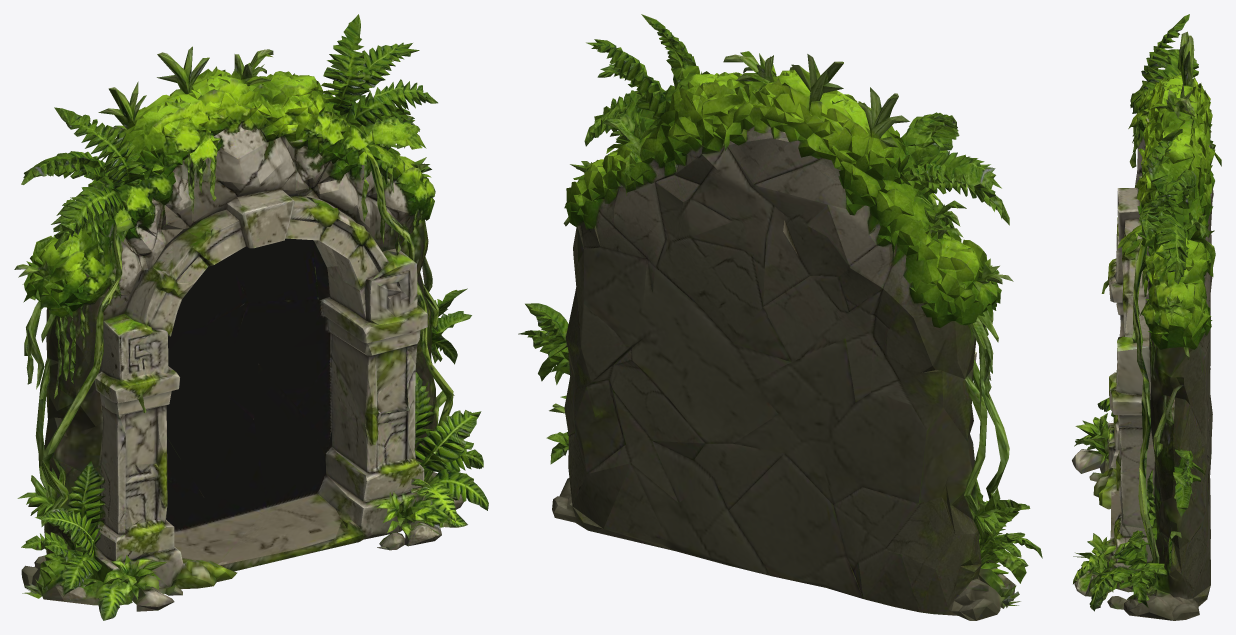
Rendered from CaveArch.fbx.
3 views of the same model, side by side, from view 1: azimuth 30°, elevation 25°; view 2: azimuth 150°, elevation 25°; view 3: azimuth 270°, elevation 25° (orthographic). The views are drawn at different scales.
Visible parts, largest first — view 1: CaveArch; view 2: CaveArch; view 3: CaveArch.
Boxes of the visible parts, x1,y1,x2,y2 form: CaveArch: (14,14,488,620); CaveArch: (518,14,1042,620); CaveArch: (1072,14,1221,620).
Bounding box in the file's own units: 1.97 × 2 × 0.5953.
Materials: 1 (1 with a texture image).
